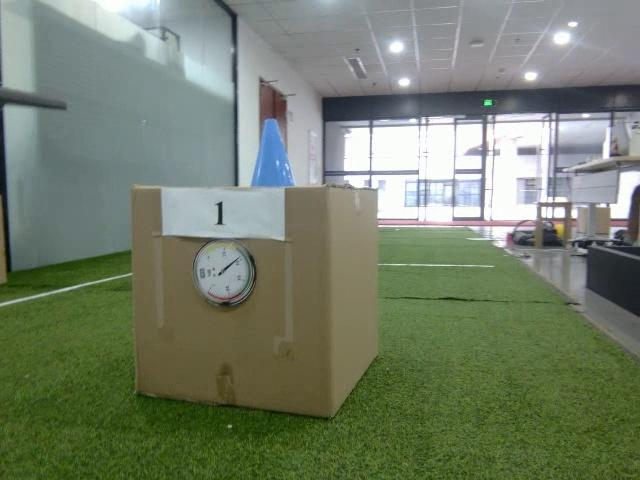1: (212, 198, 227, 226)
Dashboard: (192, 238, 258, 309)
blue_barrel: (246, 116, 297, 189)
ssi: (197, 266, 206, 280)
